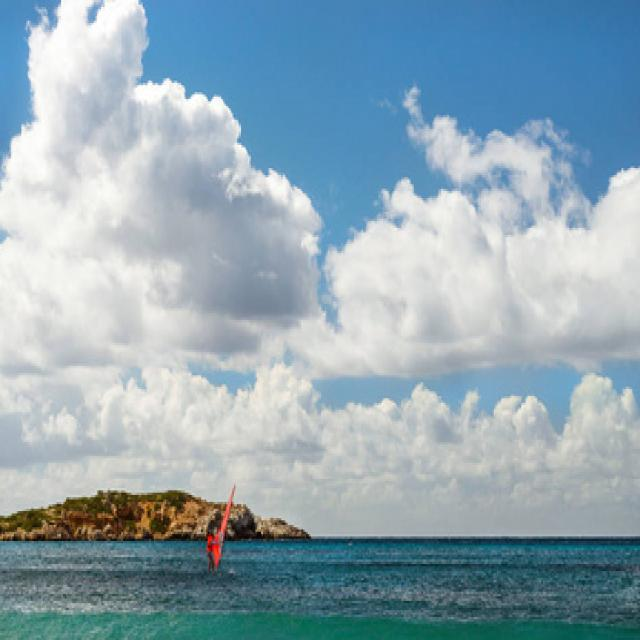island: (0, 458, 308, 553)
